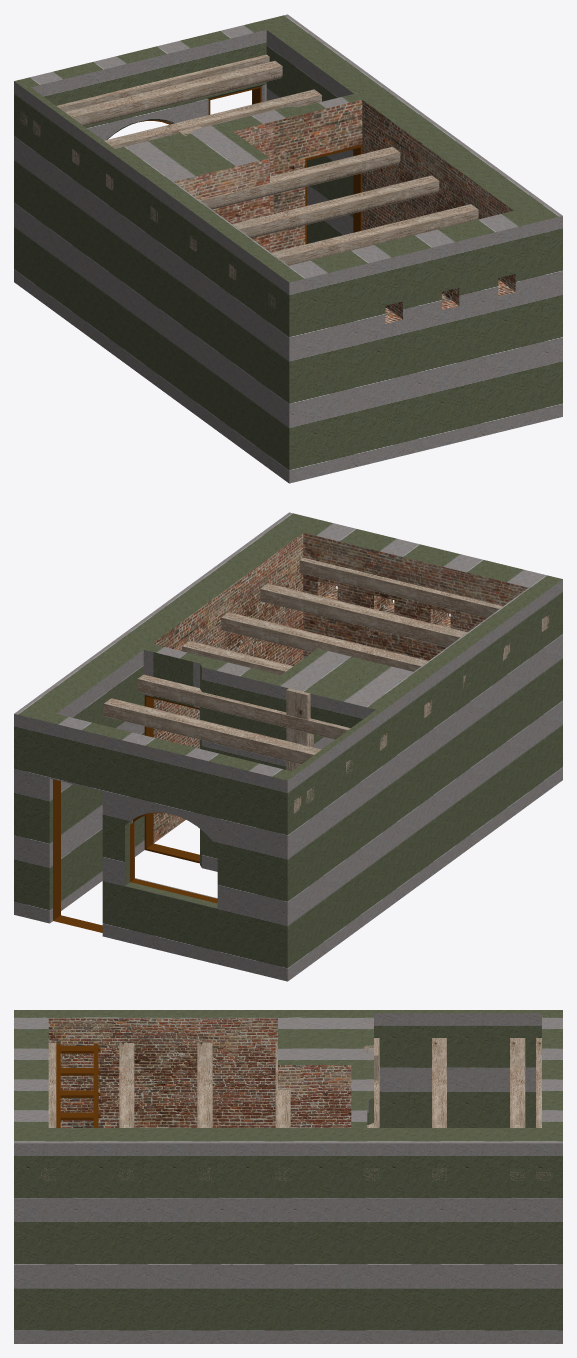
Rendered from ApothecaryShop_3.fbx.
3 renders of one model, top to bottom at view 1: azimuth 30°, elevation 25°; view 2: azimuth 150°, elevation 25°; view 3: azimuth 270°, elevation 25°, orthographic.
Parts seen in each view (by area): view 1: Group9, Rafter1, Rafter8, Rafter6, Rafter5, Rafter3, Rafter2; view 2: Group9, Rafter3, Rafter6, Rafter8, Rafter4, Rafter7, Rafter5, Rafter_1_1; view 3: Group9, Rafter1, Rafter3, Rafter6, Rafter8, Rafter7, Rafter5, Rafter2, Rail1, Rafter4, Rail2.
Boxes of the visible parts, left/top/right/bottom form: Group9: left=14, top=14, right=562, bottom=483; Rafter1: left=33, top=61, right=282, bottom=136; Rafter8: left=189, top=175, right=439, bottom=251; Rafter6: left=229, top=204, right=478, bottom=280; Rafter5: left=150, top=147, right=400, bottom=222; Rafter3: left=72, top=89, right=321, bottom=165; Rafter2: left=20, top=54, right=269, bottom=125; Group9: left=14, top=512, right=562, bottom=981; Rafter3: left=103, top=698, right=352, bottom=773; Rafter6: left=260, top=583, right=510, bottom=660; Rafter8: left=221, top=612, right=470, bottom=688; Rafter4: left=137, top=674, right=387, bottom=750; Rafter7: left=299, top=557, right=549, bottom=631; Rafter5: left=182, top=641, right=431, bottom=717; Rafter_1_1: left=286, top=688, right=313, bottom=771; Group9: left=14, top=1010, right=562, bottom=1343; Rafter1: left=510, top=1038, right=525, bottom=1180; Rafter3: left=432, top=1038, right=446, bottom=1180; Rafter6: left=119, top=1043, right=134, bottom=1180; Rafter8: left=197, top=1043, right=212, bottom=1180; Rafter7: left=41, top=1043, right=56, bottom=1180; Rafter5: left=275, top=1043, right=290, bottom=1180; Rafter2: left=536, top=1038, right=550, bottom=1180; Rail1: left=93, top=1043, right=98, bottom=1127; Rafter4: left=364, top=1038, right=379, bottom=1180; Rail2: left=56, top=1043, right=60, bottom=1127.
Bounding box in the file's own units: 3.86 × 2.75 × 6.72.
